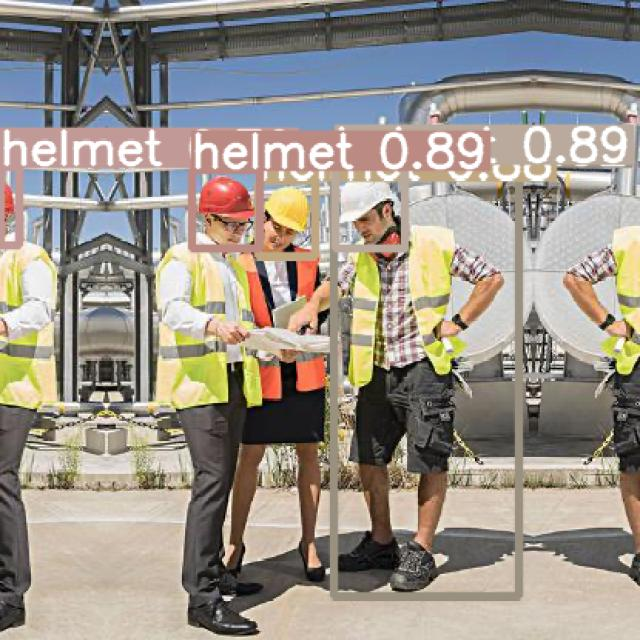helmet: (333, 167, 518, 596), (335, 163, 404, 248), (191, 169, 259, 248), (258, 180, 314, 255), (0, 166, 19, 245)
